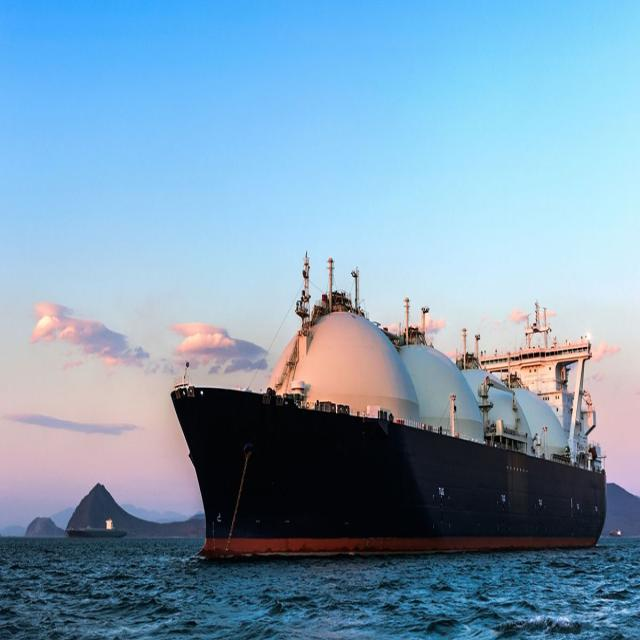boat: (165, 255, 611, 582)
